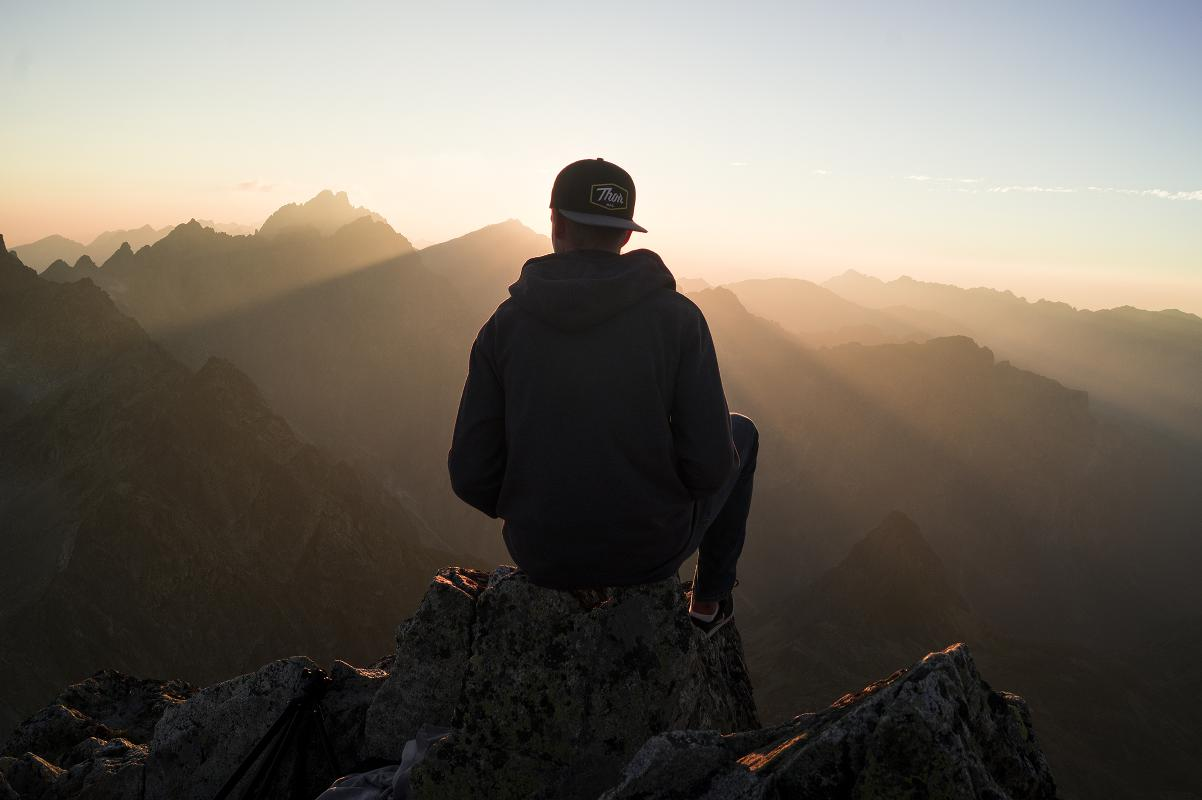Person: (449, 155, 760, 623)
